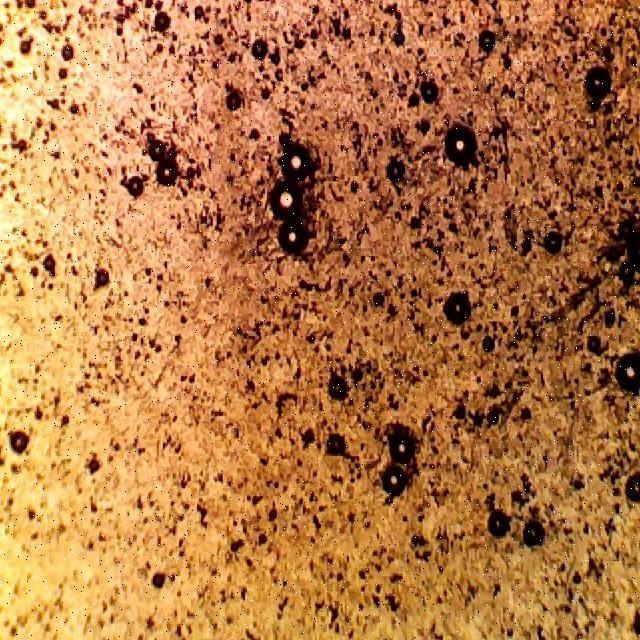microbeads: (442, 124, 478, 168), (268, 185, 304, 225), (280, 143, 312, 184), (441, 290, 473, 326), (378, 463, 408, 499), (388, 430, 418, 466), (585, 66, 613, 104)
